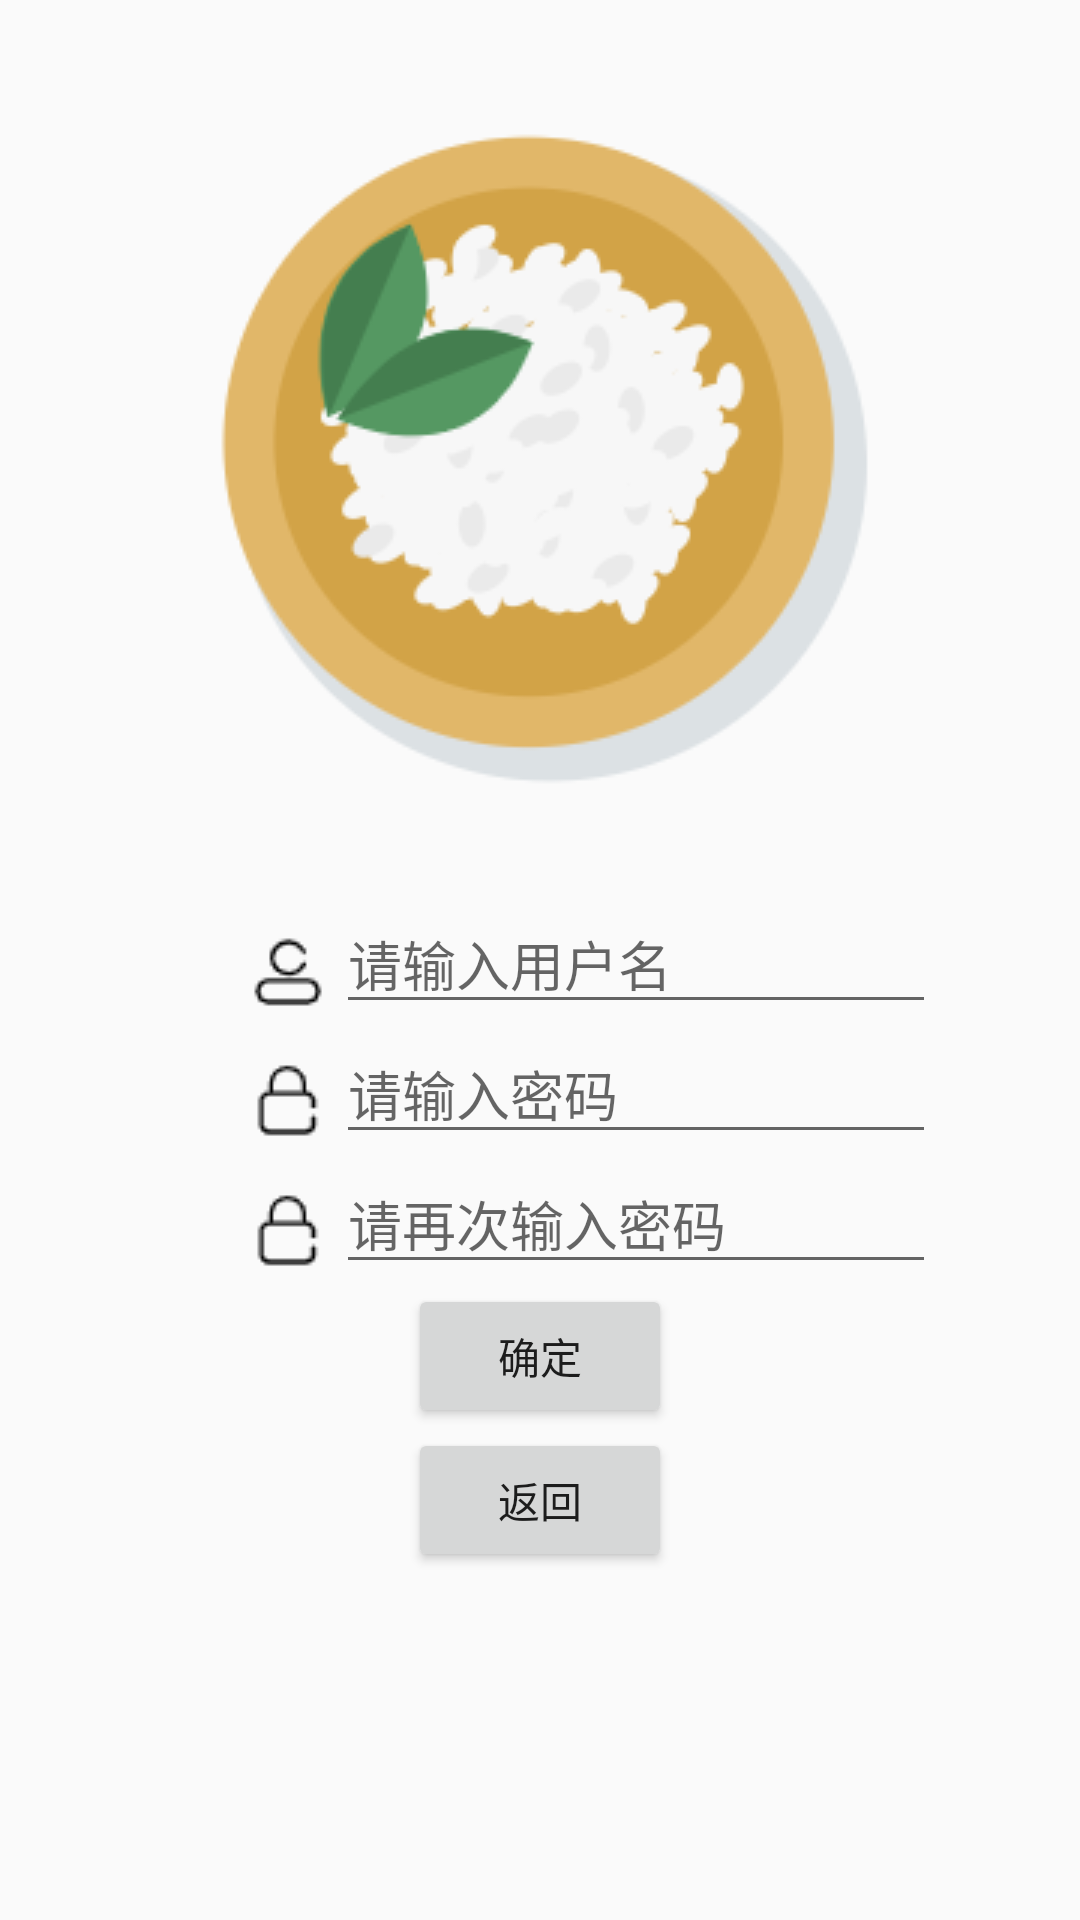

Icons on this 1080×1920 Android screen, each with its box as (x1, y1, x2, y2):
mima: (257, 1065, 318, 1136), (257, 1195, 318, 1266)
yonghu: (254, 938, 322, 1006)
